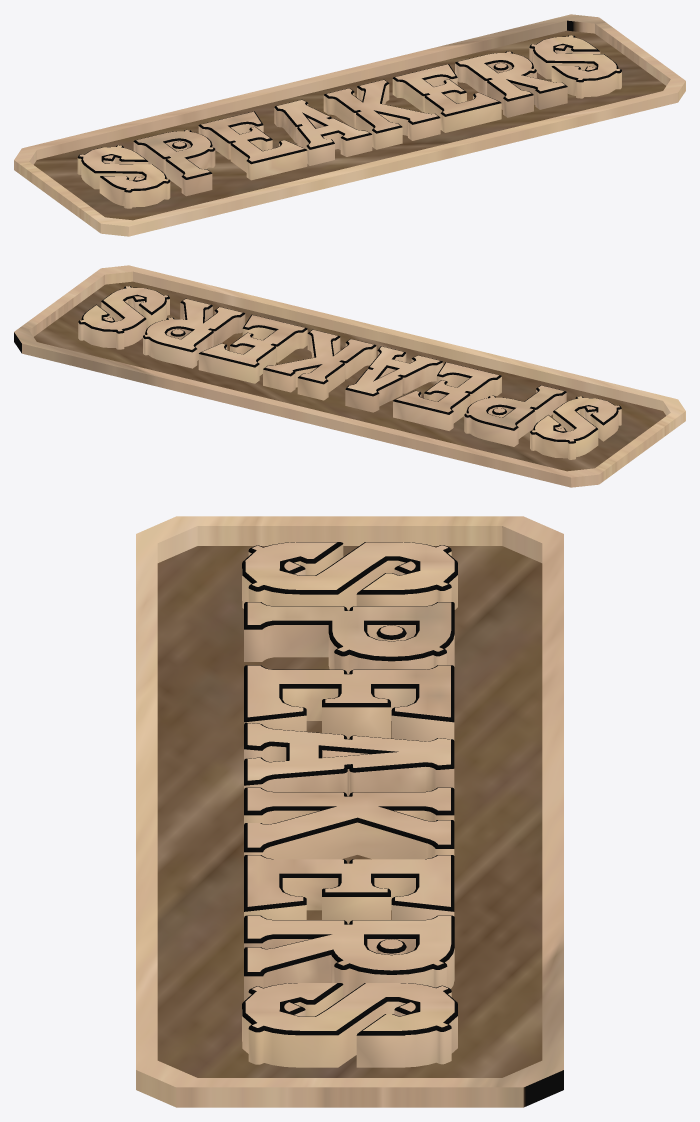
File: AboutUsBoardEmm.glb
3 renders of one model, top to bottom at view 1: azimuth 30°, elevation 25°; view 2: azimuth 150°, elevation 25°; view 3: azimuth 270°, elevation 25°, orthographic. The views are drawn at different scales.
Parts seen in each view (by area): view 1: Plane.003, Text.089; view 2: Plane.003, Text.089; view 3: Plane.003, Text.089.
Boxes of the visible parts, left/top/right/bottom form: Plane.003: left=14, top=14, right=685, bottom=236; Text.089: left=77, top=35, right=621, bottom=208; Plane.003: left=14, top=265, right=685, bottom=487; Text.089: left=78, top=286, right=621, bottom=459; Plane.003: left=136, top=516, right=563, bottom=1107; Text.089: left=242, top=542, right=457, bottom=1067.
Size of the model in its own units: 3.6 by 0.1181 by 1.14.
2 materials, 1 textured.
